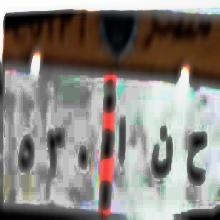0: (76, 128, 92, 183)
3: (46, 122, 64, 180)
5: (16, 124, 37, 182)
7aa: (183, 132, 211, 192)
alif: (116, 106, 134, 170)
noon: (150, 124, 175, 184)
